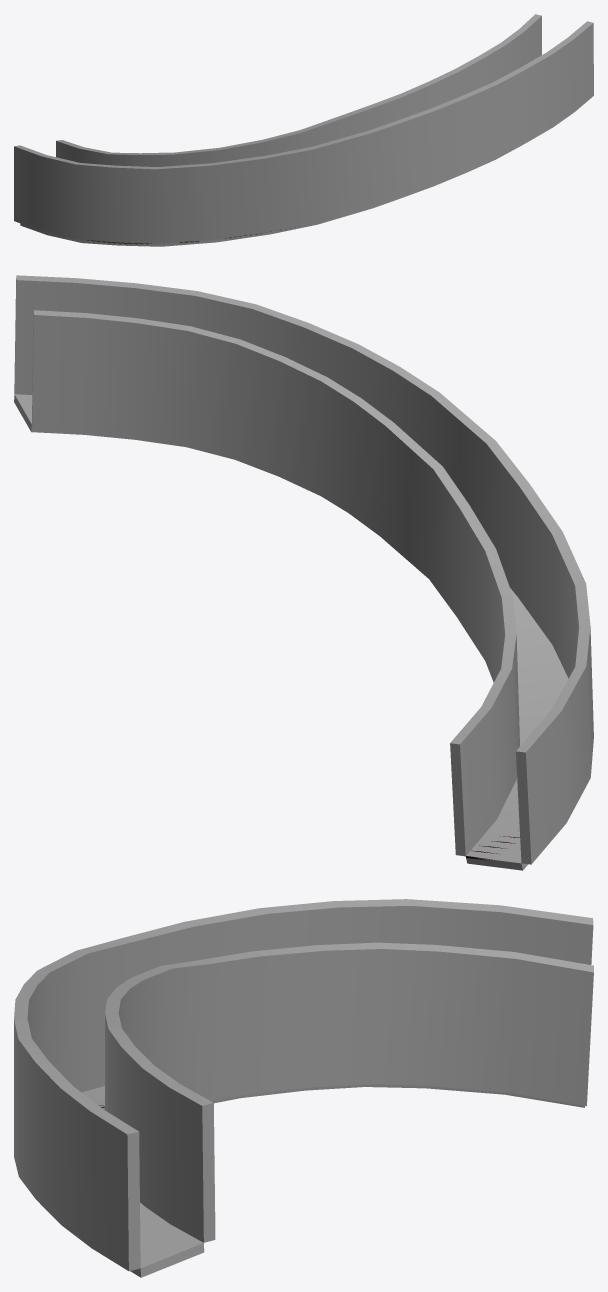
The model's file is DAJIAN_jieti.fbx.
3 views of the same model, one above another, from view 1: azimuth 30°, elevation 25°; view 2: azimuth 150°, elevation 25°; view 3: azimuth 270°, elevation 25° (orthographic). The views are drawn at different scales.
Parts seen in each view (by area): view 1: polySurface270, polySurface269; view 2: polySurface270, polySurface269; view 3: polySurface270, polySurface269.
Part boxes in pixels (box(x1,y1,x2,y2)): polySurface270: box(14, 14, 593, 243); polySurface269: box(20, 145, 521, 246); polySurface270: box(14, 275, 593, 864); polySurface269: box(14, 394, 568, 870); polySurface270: box(14, 899, 593, 1271); polySurface269: box(82, 1084, 584, 1277).
Size of the model in its own units: 43.23 by 16.98 by 25.67.
